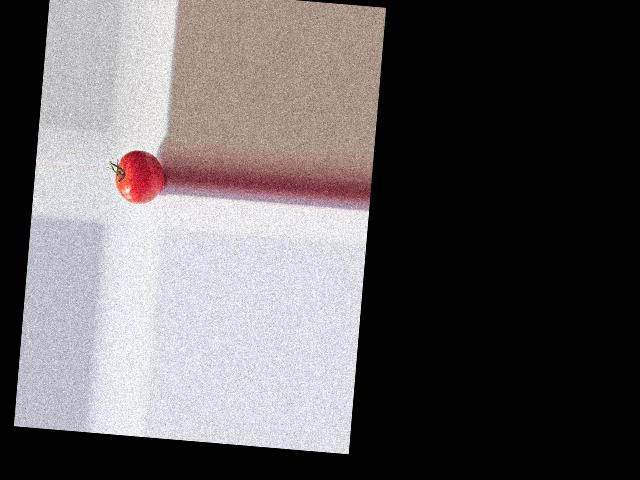tomato: (114, 149, 167, 206)
